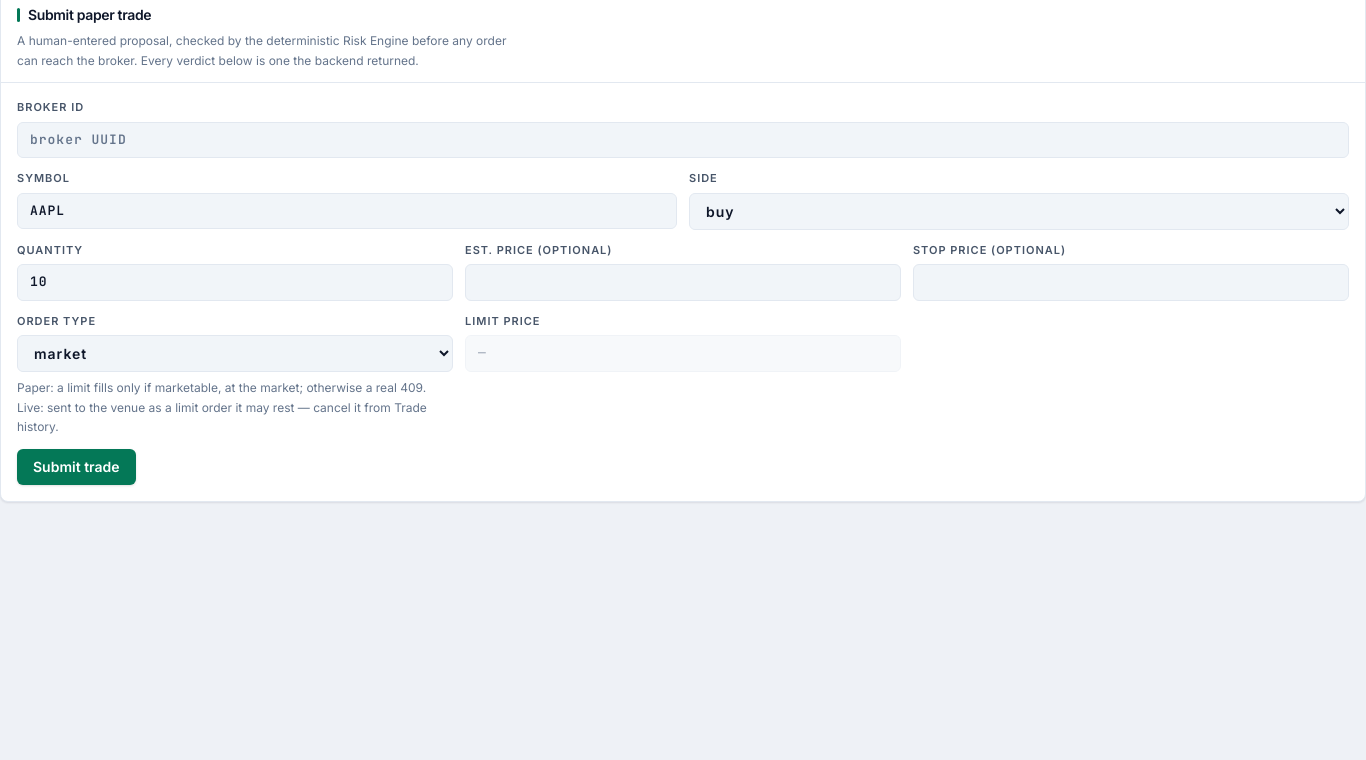
Test: TradeForm › renders a portfolio 'reject' distinctly from a Risk Engine rejection
Step 1. Type "11111111-1111-1111-1111-111111111111" into the field labelled "Broker ID" → (683, 140), box left=17, top=122, right=1349, bottom=158
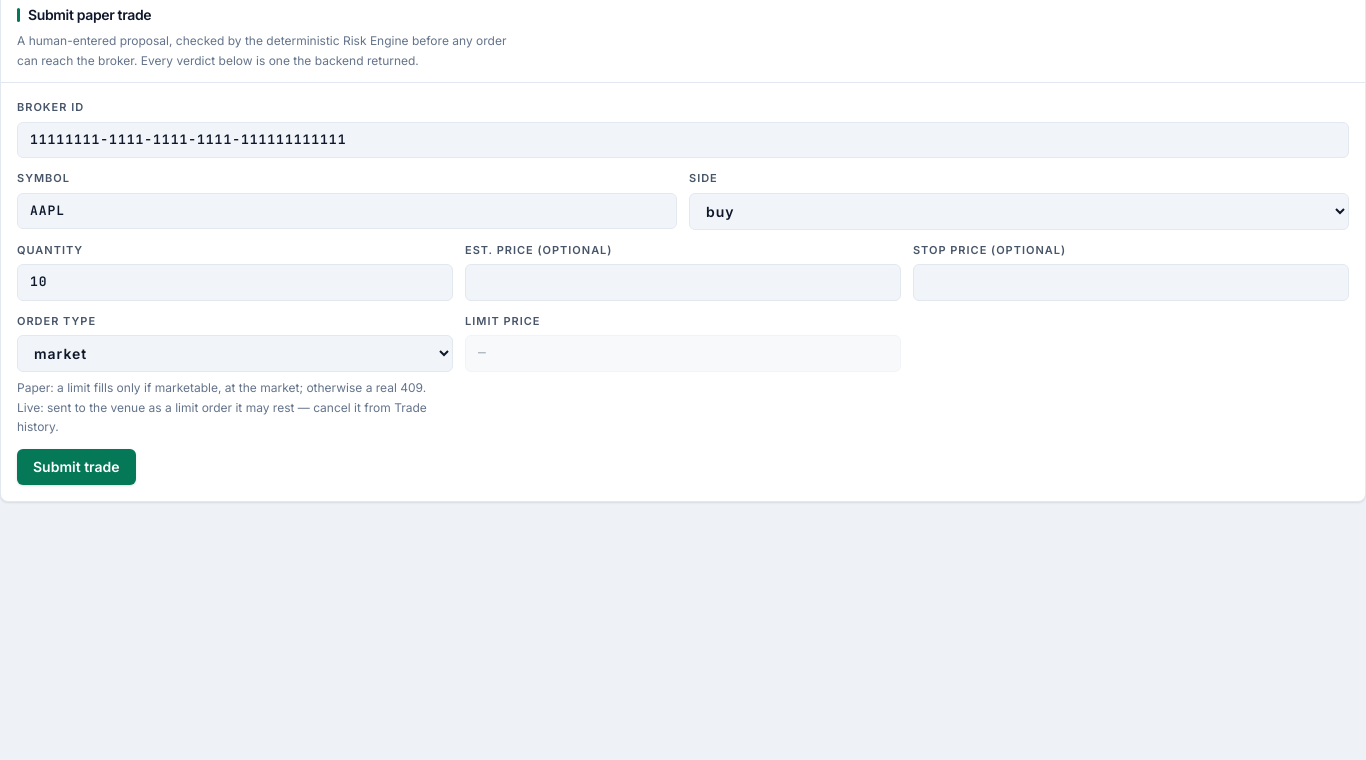
Step 2. Click the button "Submit trade" → (76, 467), box left=17, top=449, right=136, bottom=485
(page scrolled)
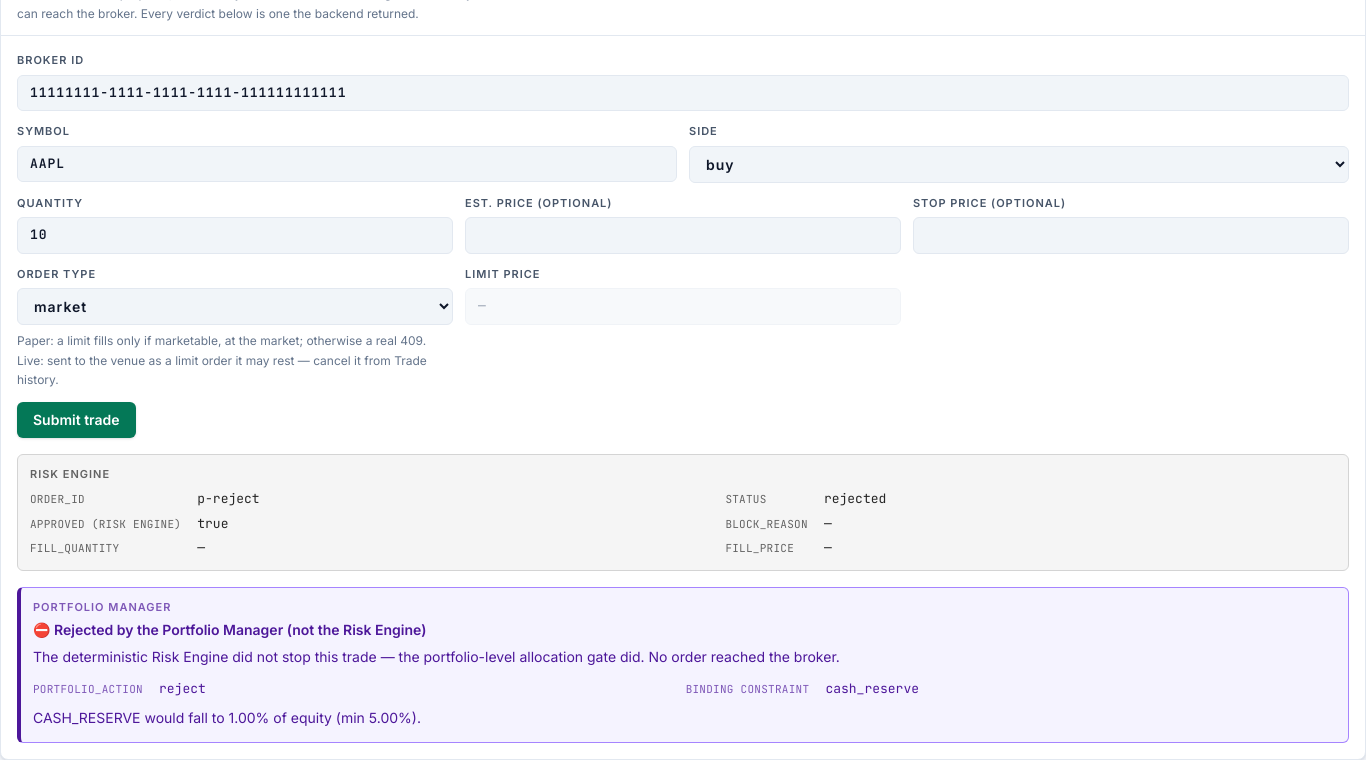
Now the element with test id "risk-verdict" is shown, box left=17, top=454, right=1349, bottom=571
Now the element with test id "portfolio-verdict" shows "Rejected by the Portfolio Manager", box left=33, top=621, right=426, bottom=638
Now the element with test id "portfolio-verdict" shows "not the Risk Engine", box left=33, top=621, right=426, bottom=638
